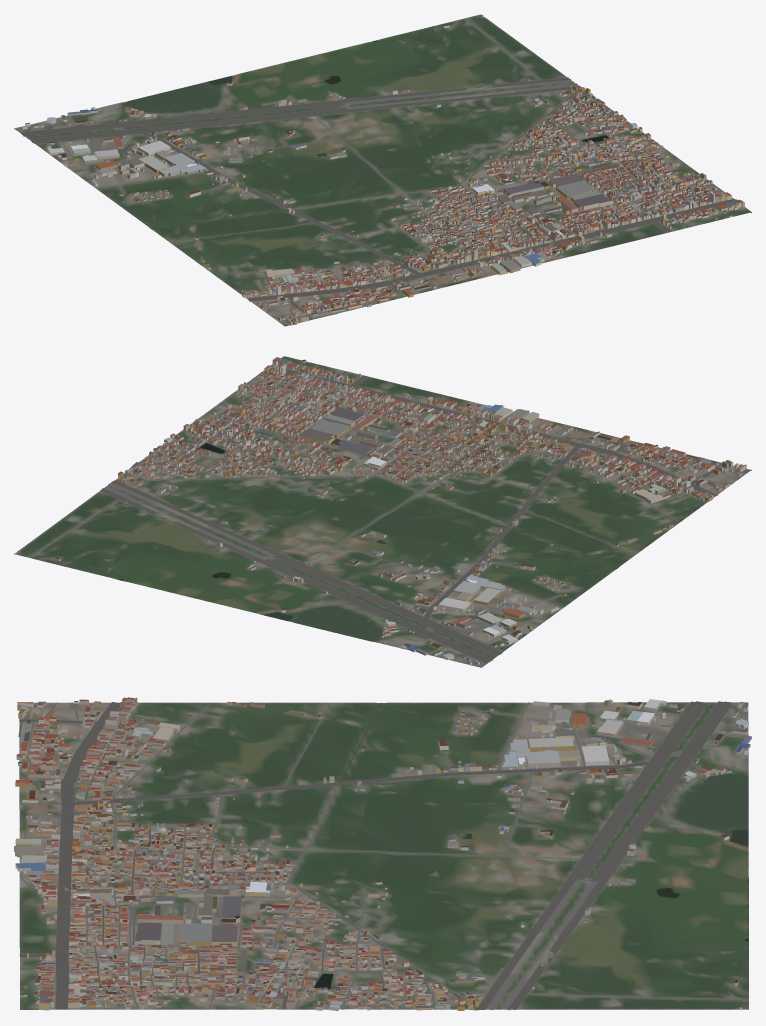
The picture shows the model from 3 angles, top to bottom: view 1: azimuth 30°, elevation 25°; view 2: azimuth 150°, elevation 25°; view 3: azimuth 270°, elevation 25°; orthographic projection. The views are drawn at different scales.
Parts seen in each view (by area): view 1: ground, buildings, roads, water; view 2: ground, buildings, roads, water; view 3: ground, buildings, roads, water.
Boxes of the visible parts, x1,y1,x2,y2 form: ground: [14, 14, 751, 326]; buildings: [22, 15, 744, 325]; roads: [15, 18, 734, 321]; water: [127, 40, 608, 228]; ground: [14, 356, 751, 667]; buildings: [17, 357, 746, 664]; roads: [29, 365, 751, 667]; water: [117, 443, 617, 640]; ground: [19, 702, 748, 1010]; buildings: [14, 697, 751, 1010]; roads: [18, 701, 748, 1010]; water: [313, 702, 748, 1009].
Bounding box in the file's own units: 1409 × 30.9 × 1419.
